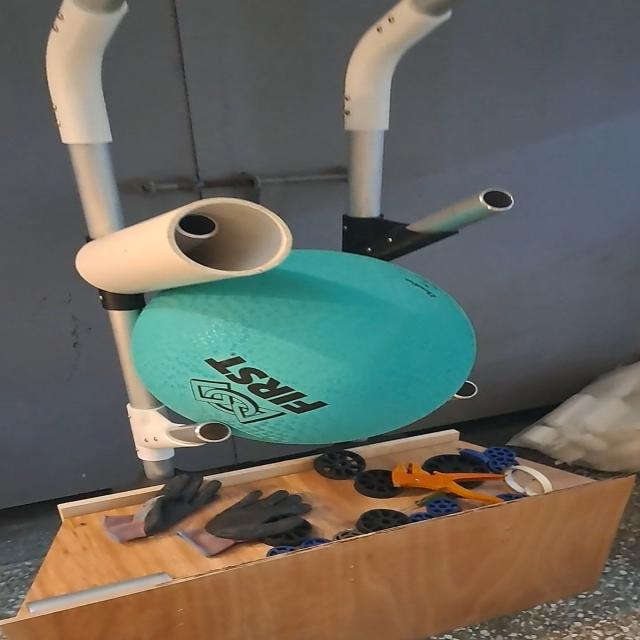ALGAE: (126, 244, 482, 448)
CORAL: (75, 195, 300, 299)
